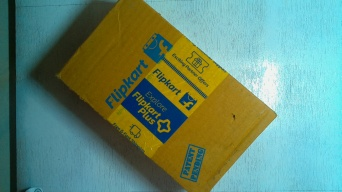a: (58, 1, 276, 187)
